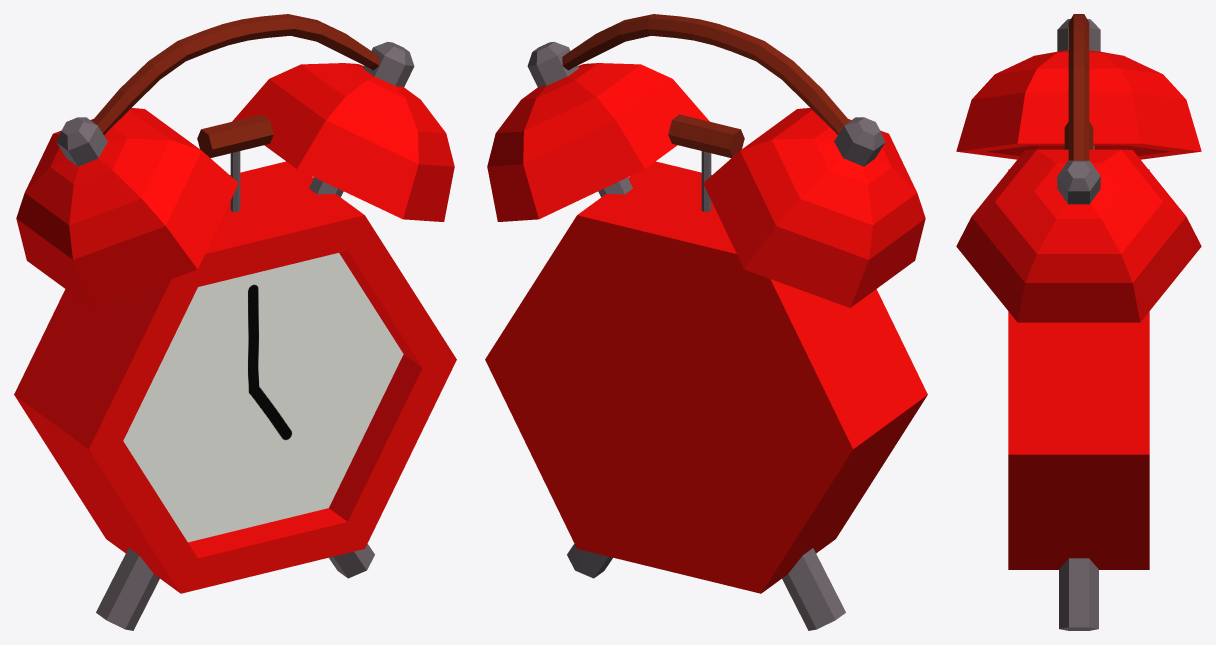
Rendered from AlarmClock.fbx.
3 renders of one model, left to right at view 1: azimuth 30°, elevation 25°; view 2: azimuth 150°, elevation 25°; view 3: azimuth 270°, elevation 25°, orthographic. The views are drawn at different scales.
Visible parts, largest first — view 1: Cylinder.005; view 2: Cylinder.005; view 3: Cylinder.005.
Part boxes in pixels (x1,y1,x2,y2): Cylinder.005: (14,14,456,630); Cylinder.005: (485,14,927,630); Cylinder.005: (956,14,1201,630).
Bounding box in the file's own units: 20.86 × 30.14 × 12.28.
1 material, 1 textured.
